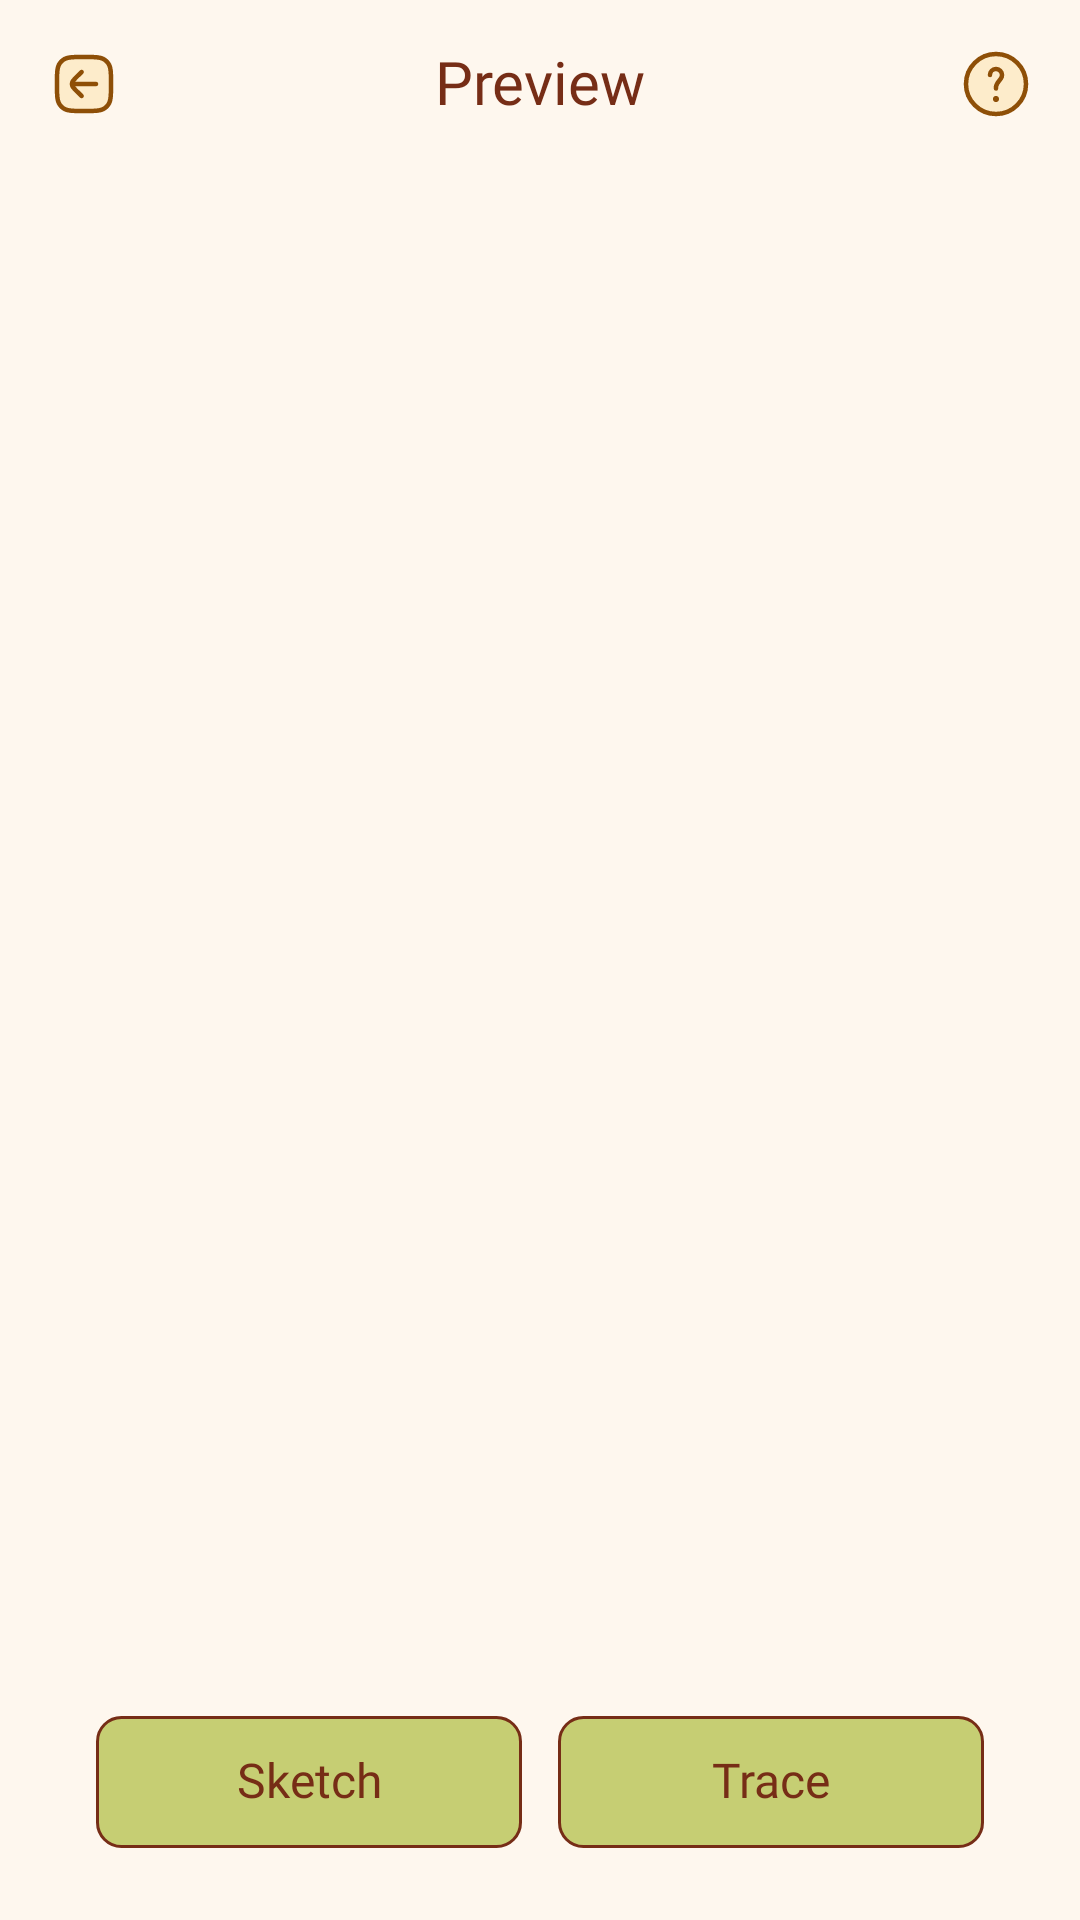

Where icons sit on this 1080px×1920px app screen, as (x1, y1, x2, y2):
detail back: (54, 54, 114, 114)
